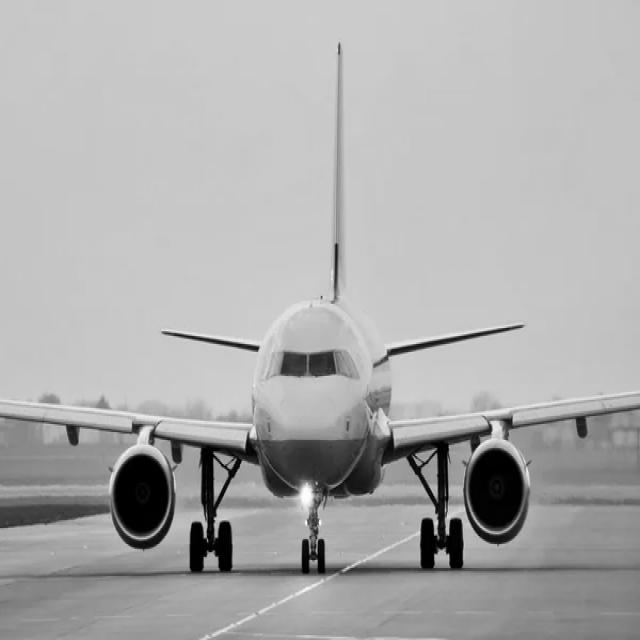Aircraft: (20, 75, 638, 580)
